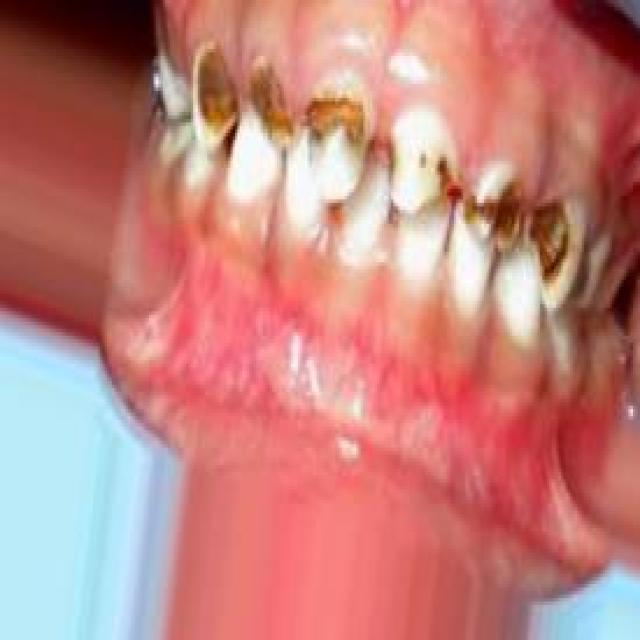caries: (305, 64, 378, 207), (382, 106, 460, 220), (524, 172, 588, 304), (246, 51, 304, 175), (465, 157, 528, 262), (188, 37, 240, 154)
